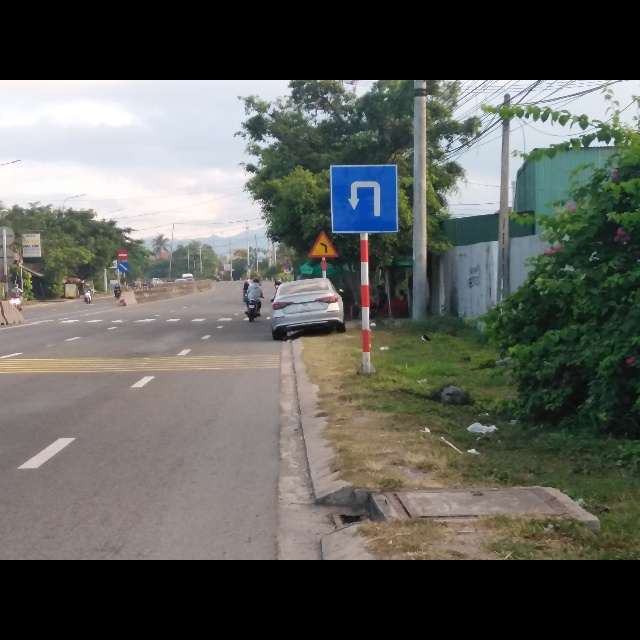Khu vực quay đầu xe: (328, 161, 398, 234)
